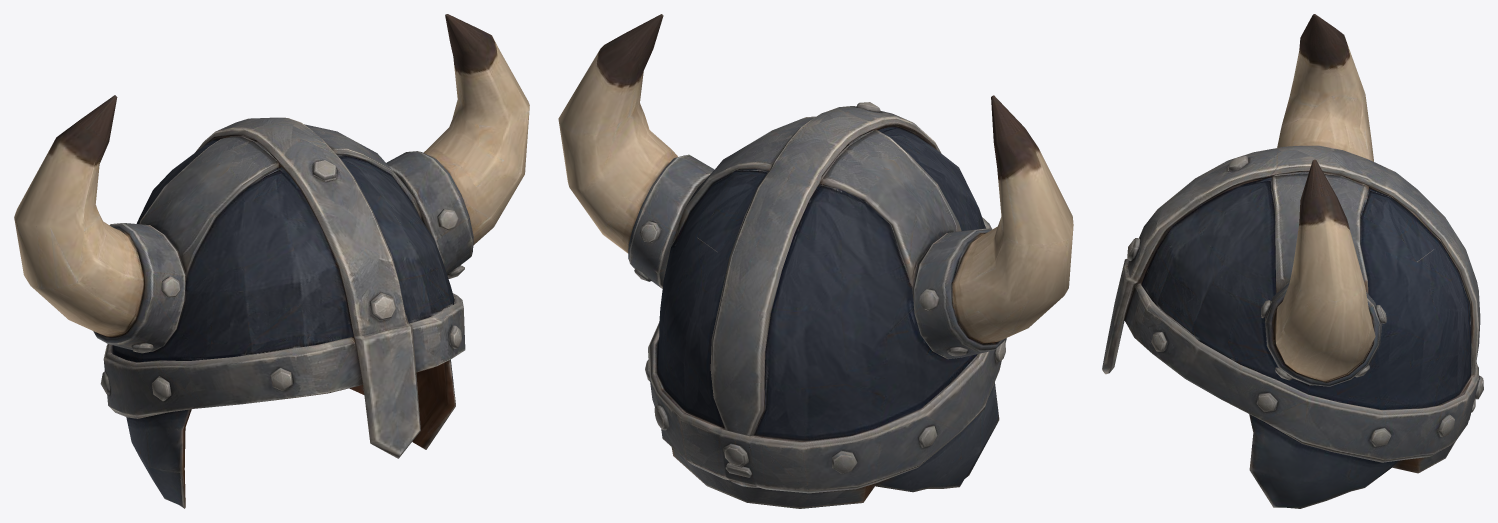
Rendered from HatViking.fbx.
3 renders of one model, left to right at view 1: azimuth 30°, elevation 25°; view 2: azimuth 150°, elevation 25°; view 3: azimuth 270°, elevation 25°, orthographic. The views are drawn at different scales.
Parts seen in each view (by area): view 1: Mesh_0; view 2: Mesh_0; view 3: Mesh_0.
Boxes of the visible parts, x1,y1,x2,y2 form: Mesh_0: (14,14,529,508); Mesh_0: (558,14,1073,508); Mesh_0: (1102,14,1483,508).
Size of the model in its own units: 95.75 by 73.63 by 69.38.
1 material, 1 textured.
